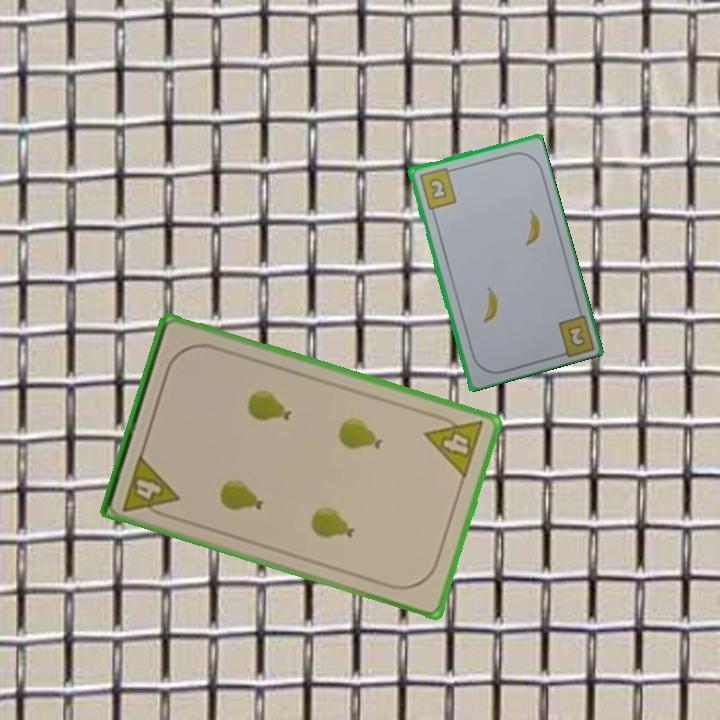2b: (415, 164, 459, 212), (566, 324, 586, 347)
4p: (421, 408, 487, 481), (119, 450, 182, 522)
